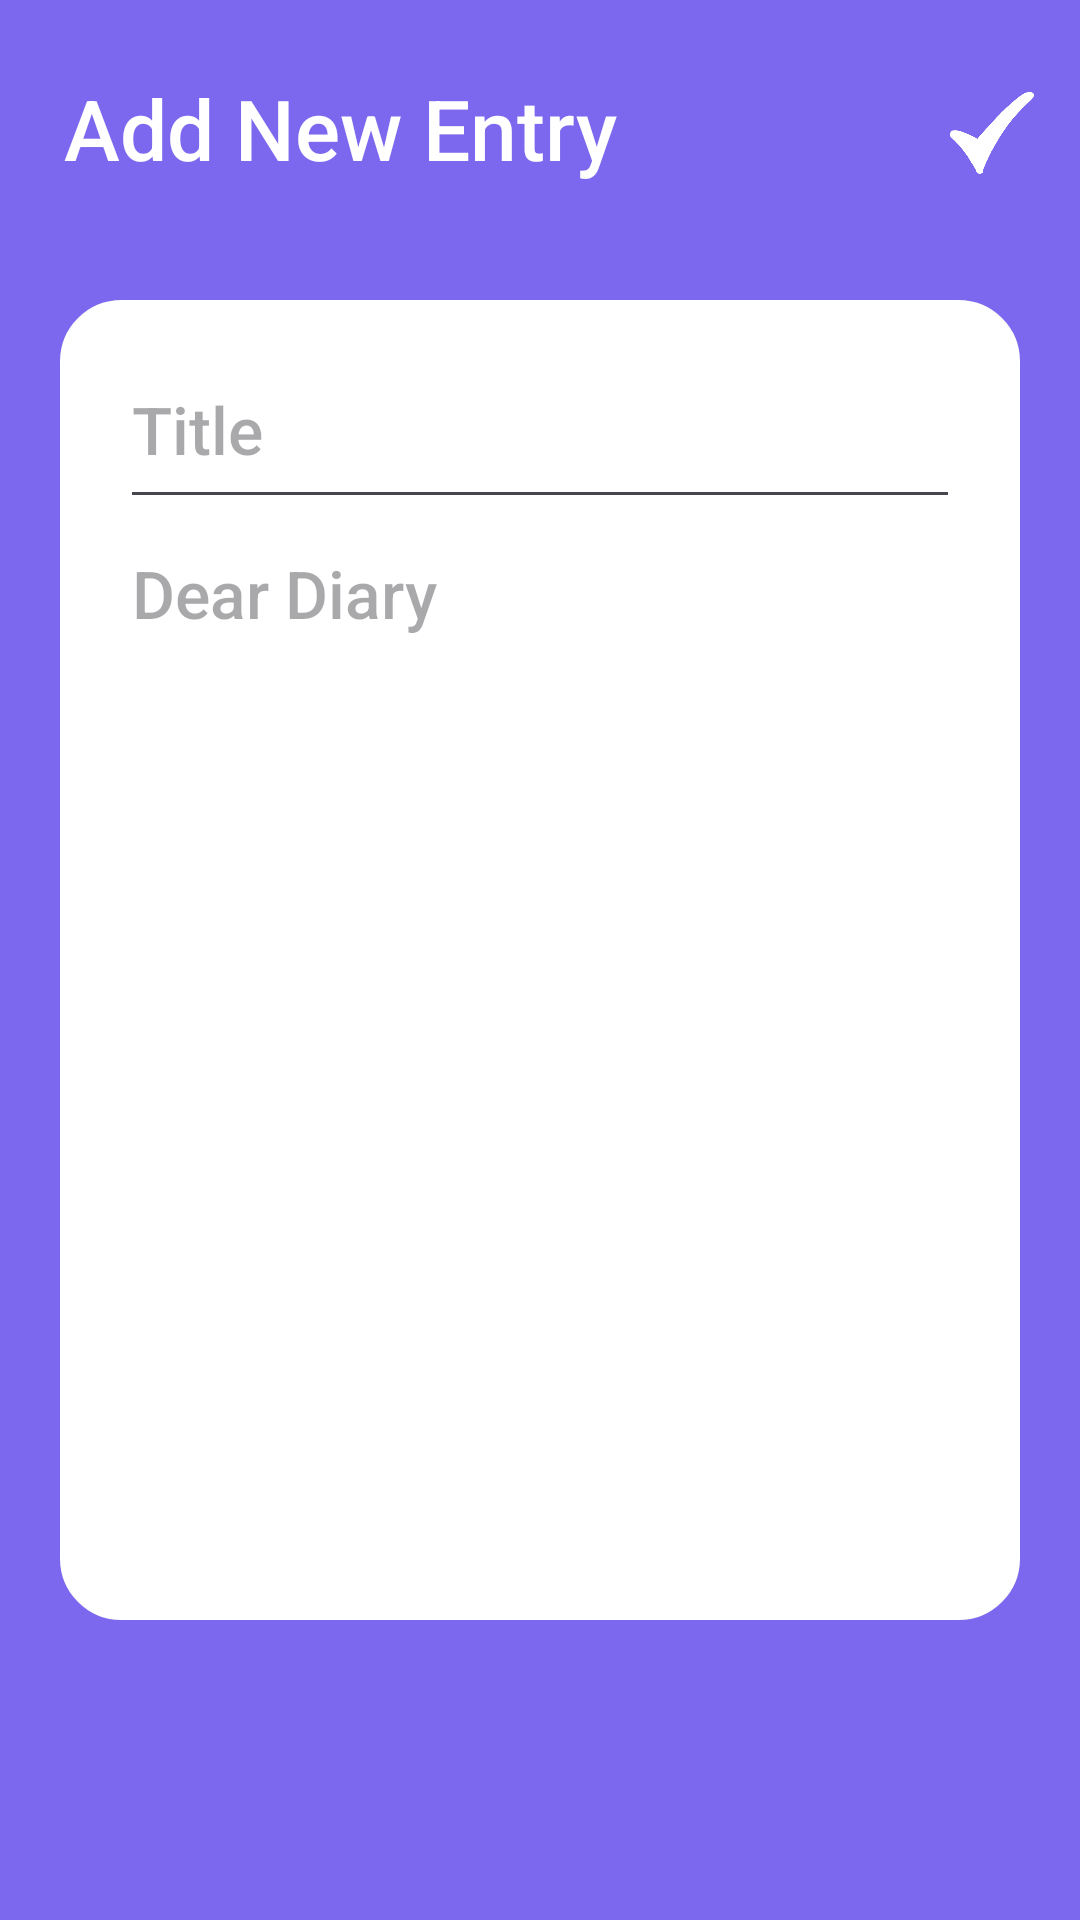

Icon bounding boxes for this 1080*1920 phone screenshot, format (x1, y1, x2, y2):
tick: (950, 92, 1034, 174)
